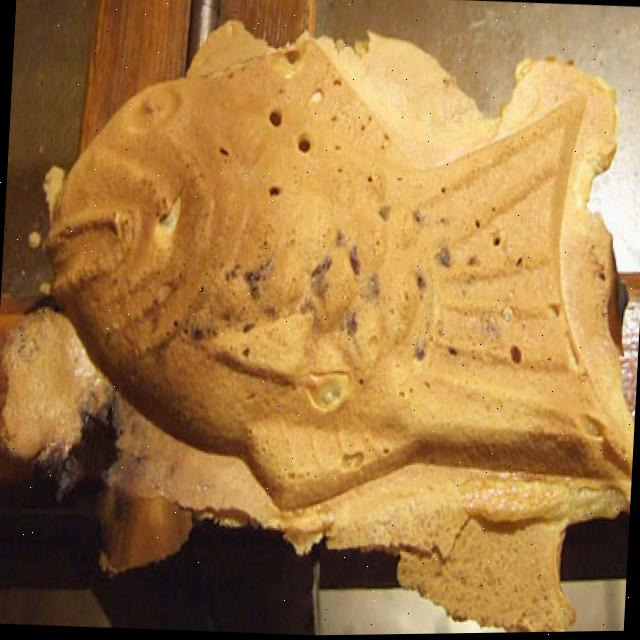熟制海鲜: (32, 13, 640, 539)
